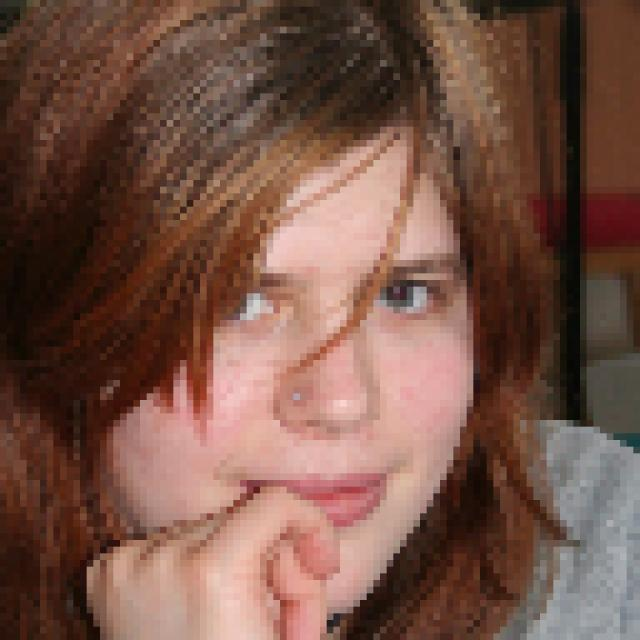happy: (68, 85, 525, 640)
